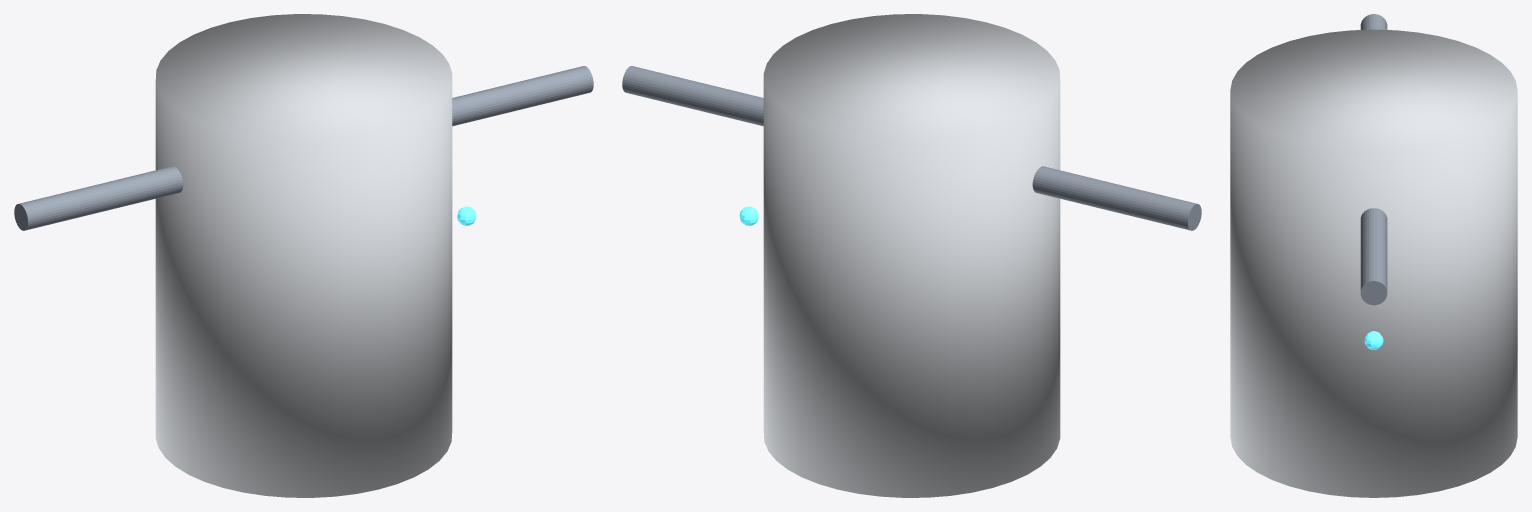
Rendered from water-tank.glb.
3 renders of one model, left to right at view 1: azimuth 30°, elevation 25°; view 2: azimuth 150°, elevation 25°; view 3: azimuth 270°, elevation 25°, orthographic. The views are drawn at different scales.
Visible parts, largest first — view 1: Tank, Pipe_L, Pipe_R; view 2: Tank, Pipe_L, Pipe_R; view 3: Tank, Pipe_R, Pipe_L.
Part boxes in pixels (x1,y1,x2,y2): Tank: [155, 14, 452, 497]; Pipe_L: [14, 166, 183, 230]; Pipe_R: [452, 66, 593, 126]; Tank: [763, 14, 1060, 497]; Pipe_L: [1032, 166, 1201, 230]; Pipe_R: [622, 66, 763, 126]; Tank: [1230, 29, 1517, 497]; Pipe_R: [1360, 208, 1387, 305]; Pipe_L: [1360, 14, 1387, 29].
Bounding box in the file's own units: 3.3 × 2 × 1.5.
